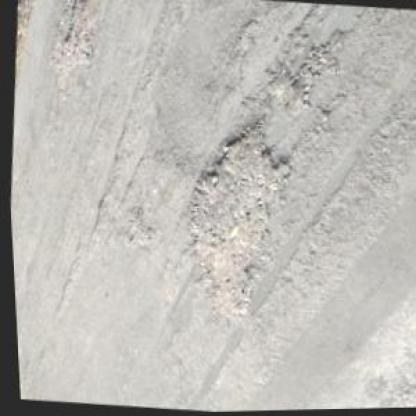pothole: (164, 108, 302, 333), (39, 0, 107, 110), (258, 57, 312, 123), (119, 201, 153, 254)
